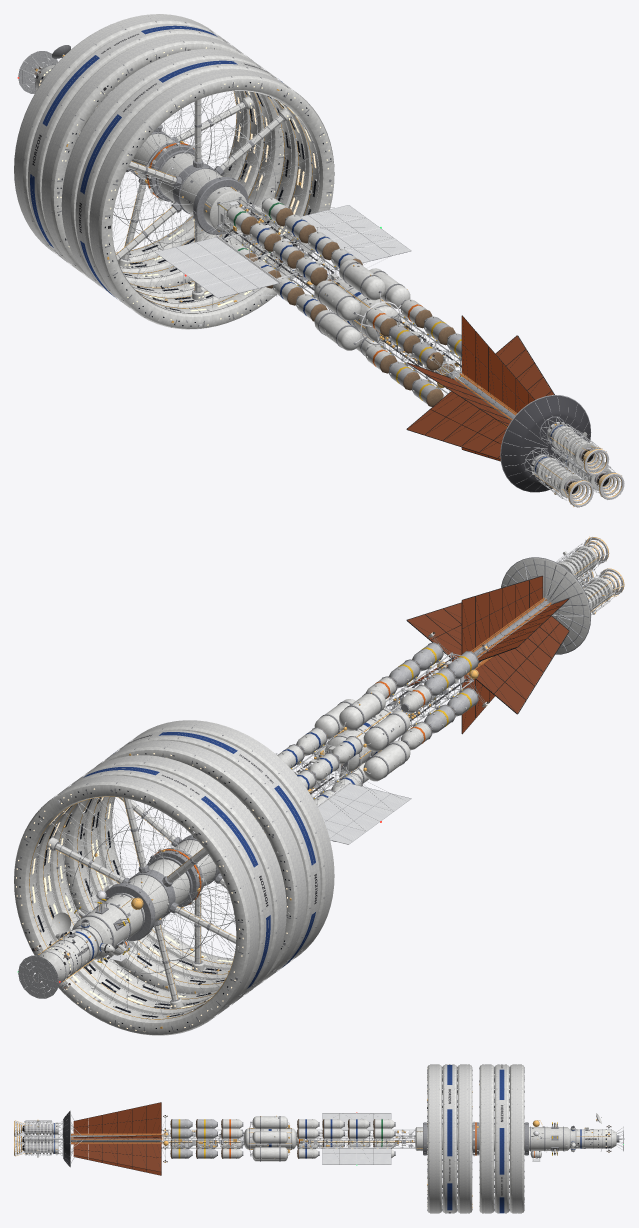
File: horizon.glb
3 views of the same model, one above another, from view 1: azimuth 30°, elevation 25°; view 2: azimuth 150°, elevation 25°; view 3: azimuth 270°, elevation 25° (orthographic). The views are drawn at different scales.
Parts seen in each view (by area): view 1: CochRingA_white_m, CochRingF_white_m, CochRingA_tile, CochRingF_tile, CochHull_hot, CochHull_radw, CochHull_grey, CochHull_truss, CochHull_tank, CochHull_tungsten, CochRingA_truss, CochHull_white_s (+18 smaller); view 2: CochRingF_white_m, CochRingA_white_m, CochHull_hot, CochRingF_tile, CochRingA_tile, CochHull_white, CochHull_grey, CochRingF_truss, CochHull_white_s, CochHull_tank, CochHull_radw, CochHull_truss (+19 smaller); view 3: CochHull_hot, CochRingA_tile, CochRingF_tile, CochHull_grey, CochHull_white, CochRingF_white_m, CochRingA_white_m, CochHull_truss, CochHull_white_s, CochHull_radw, CochHull_tank, CochHull_white_m (+13 smaller).
Part boxes in pixels (left/top/right/bottom): CochRingA_white_m: left=62, top=50, right=334, bottom=328; CochRingF_white_m: left=14, top=15, right=283, bottom=287; CochRingA_tile: left=61, top=49, right=334, bottom=329; CochRingF_tile: left=14, top=14, right=253, bottom=281; CochHull_hot: left=407, top=316, right=553, bottom=460; CochHull_radw: left=125, top=143, right=567, bottom=477; CochHull_grey: left=35, top=45, right=610, bottom=498; CochHull_truss: left=22, top=53, right=624, bottom=507; CochHull_tank: left=226, top=197, right=410, bottom=355; CochHull_tungsten: left=501, top=395, right=590, bottom=491; CochRingA_truss: left=112, top=91, right=315, bottom=309; CochHull_white_s: left=35, top=45, right=611, bottom=498; CochRingF_white_m: left=14, top=756, right=286, bottom=1034; CochRingA_white_m: left=64, top=721, right=333, bottom=993; CochHull_hot: left=407, top=576, right=568, bottom=733; CochRingF_tile: left=14, top=755, right=286, bottom=1035; CochRingA_tile: left=94, top=720, right=334, bottom=986; CochHull_white: left=72, top=558, right=590, bottom=959; CochHull_grey: left=37, top=544, right=613, bottom=983; CochRingF_truss: left=33, top=797, right=235, bottom=1016; CochHull_white_s: left=35, top=546, right=612, bottom=988; CochHull_tank: left=240, top=690, right=410, bottom=841; CochHull_radw: left=109, top=661, right=464, bottom=961; CochHull_truss: left=34, top=536, right=624, bottom=991; CochHull_hot: left=73, top=1102, right=161, bottom=1175; CochRingA_tile: left=430, top=1064, right=469, bottom=1213; CochRingF_tile: left=482, top=1064, right=521, bottom=1213; CochHull_grey: left=23, top=1110, right=624, bottom=1167; CochHull_white: left=52, top=1111, right=575, bottom=1166; CochRingF_white_m: left=479, top=1065, right=524, bottom=1212; CochRingA_white_m: left=427, top=1065, right=472, bottom=1212; CochHull_truss: left=14, top=1114, right=623, bottom=1164; CochHull_white_s: left=25, top=1113, right=609, bottom=1162; CochHull_radw: left=56, top=1113, right=540, bottom=1164; CochHull_tank: left=252, top=1116, right=394, bottom=1161; CochHull_white_m: left=244, top=1128, right=616, bottom=1149.
Bounding box in the file's own units: 200 × 200 × 820.
Materials: 35 (14 with a texture image).
